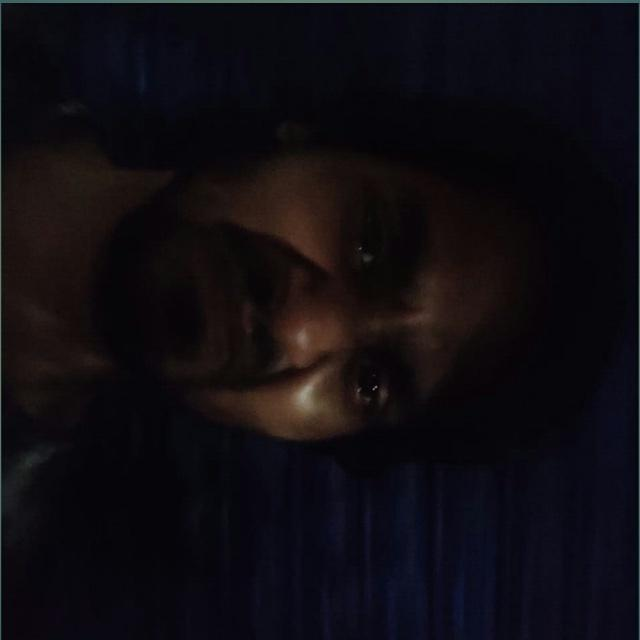Disgust: (120, 116, 552, 524)
